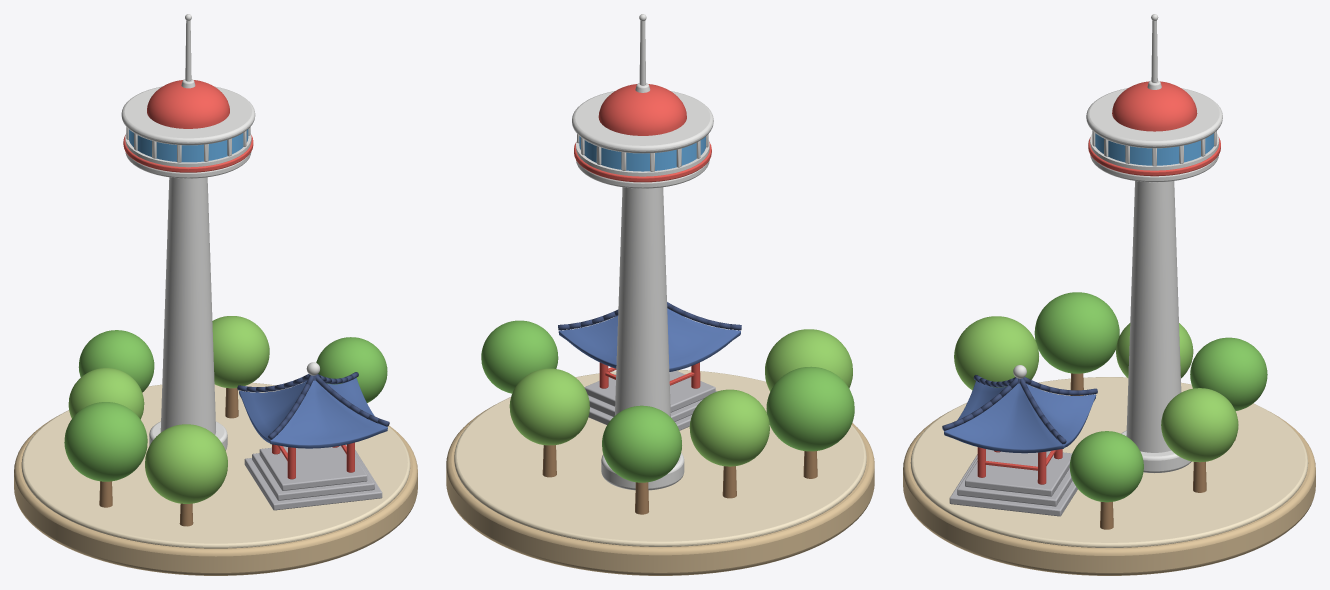
The model's file is yongdusan.glb.
3 views of the same model, side by side, from view 1: azimuth 30°, elevation 25°; view 2: azimuth 150°, elevation 25°; view 3: azimuth 270°, elevation 25° (orthographic). The views are drawn at different scales.
Visible parts, largest first — view 1: Base_Top, Base.001, Tower_Shaft, Pav_Roof, Tree0_Crown, Tree1_Crown, Deck_Rim.001, Tree5_Crown, Dome, Pav_Base2, Tree4_Crown, Tree6_Crown (+8 smaller); view 2: Base_Top, Base.001, Tower_Shaft, Tree0_Crown, Tree3_Crown, Tree5_Crown, Tree4_Crown, Pav_Roof, Deck_Rim.001, Tree6_Crown, Dome, Tree1_Crown (+7 smaller); view 3: Base_Top, Base.001, Tower_Shaft, Pav_Roof, Tree0_Crown, Tree5_Crown, Tree1_Crown, Tree6_Crown, Tree4_Crown, Deck_Rim.001, Dome, Pav_Base2 (+9 smaller).
Part boxes in pixels (box(x1,y1,x2,y2)): Base_Top: box(21, 382, 410, 548); Base.001: box(14, 415, 417, 575); Tower_Shaft: box(160, 177, 215, 434); Pav_Roof: box(239, 378, 387, 448); Tree0_Crown: box(64, 402, 147, 481); Tree1_Crown: box(145, 424, 227, 503); Deck_Rim.001: box(121, 86, 255, 145); Tree5_Crown: box(212, 316, 269, 388); Dome: box(147, 80, 229, 128); Pav_Base2: box(259, 444, 367, 490); Tree4_Crown: box(78, 330, 154, 392); Tree6_Crown: box(316, 337, 387, 402); Base_Top: box(454, 370, 866, 546); Base.001: box(446, 405, 874, 575); Tower_Shaft: box(615, 187, 670, 416); Tree0_Crown: box(766, 366, 854, 451); Tree3_Crown: box(689, 389, 769, 466); Tree5_Crown: box(509, 368, 589, 445); Tree4_Crown: box(602, 405, 681, 482); Pav_Roof: box(558, 308, 740, 371); Deck_Rim.001: box(572, 91, 713, 153); Tree6_Crown: box(481, 320, 558, 393); Dome: box(598, 84, 686, 135); Tree1_Crown: box(765, 329, 852, 391); Base_Top: box(910, 377, 1308, 547); Base.001: box(903, 412, 1315, 575); Tower_Shaft: box(1126, 181, 1181, 452); Pav_Roof: box(944, 381, 1096, 453); Tree0_Crown: box(1034, 292, 1119, 373); Tree5_Crown: box(1161, 388, 1238, 462); Tree1_Crown: box(954, 316, 1038, 390); Tree6_Crown: box(1069, 431, 1143, 502); Tree4_Crown: box(1190, 337, 1267, 410); Deck_Rim.001: box(1086, 88, 1222, 148); Dome: box(1112, 81, 1197, 131); Pav_Base2: box(965, 449, 1072, 496).
Bounding box in the file's own units: 6.4 × 8.1 × 6.4.
